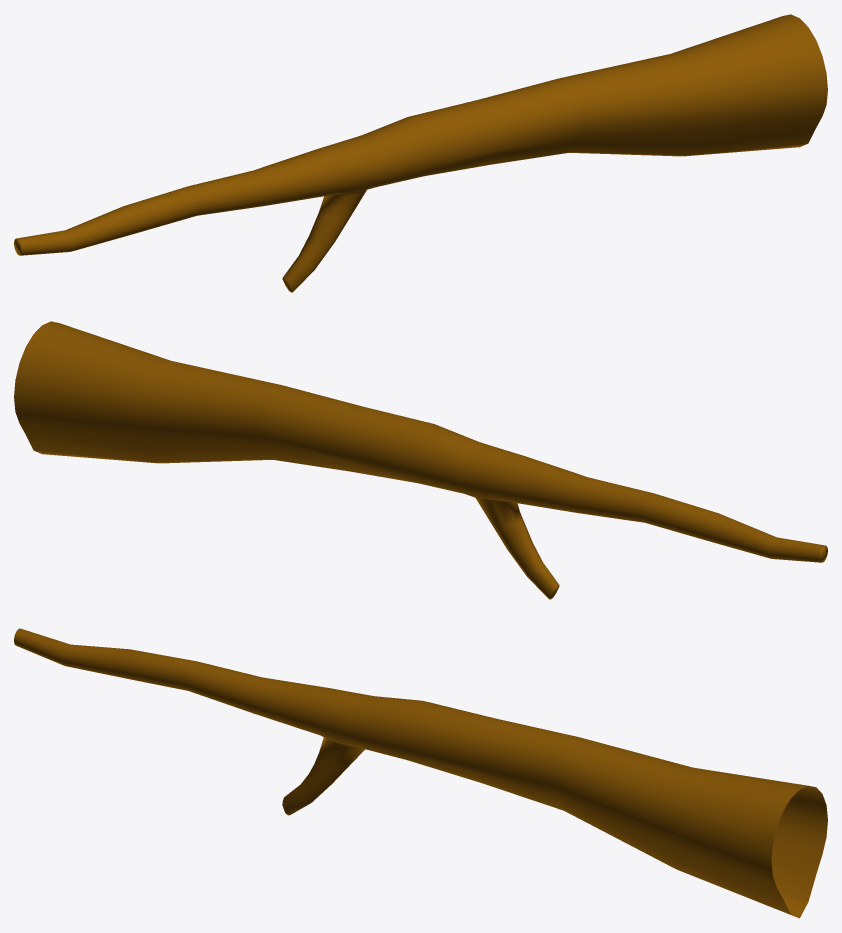
The model's file is SM_Branch.fbx.
The picture shows the model from 3 angles, top to bottom: view 1: azimuth 30°, elevation 25°; view 2: azimuth 150°, elevation 25°; view 3: azimuth 330°, elevation 25°; orthographic projection.
Visible parts, largest first — view 1: SM_TreeBranch; view 2: SM_TreeBranch; view 3: SM_TreeBranch.
Boxes of the visible parts, x1=… form: SM_TreeBranch: x1=14, y1=14, x2=827, y2=292; SM_TreeBranch: x1=14, y1=321, x2=827, y2=599; SM_TreeBranch: x1=14, y1=628, x2=827, y2=918.
Size of the model in its own units: 273 by 50.09 by 34.24.
